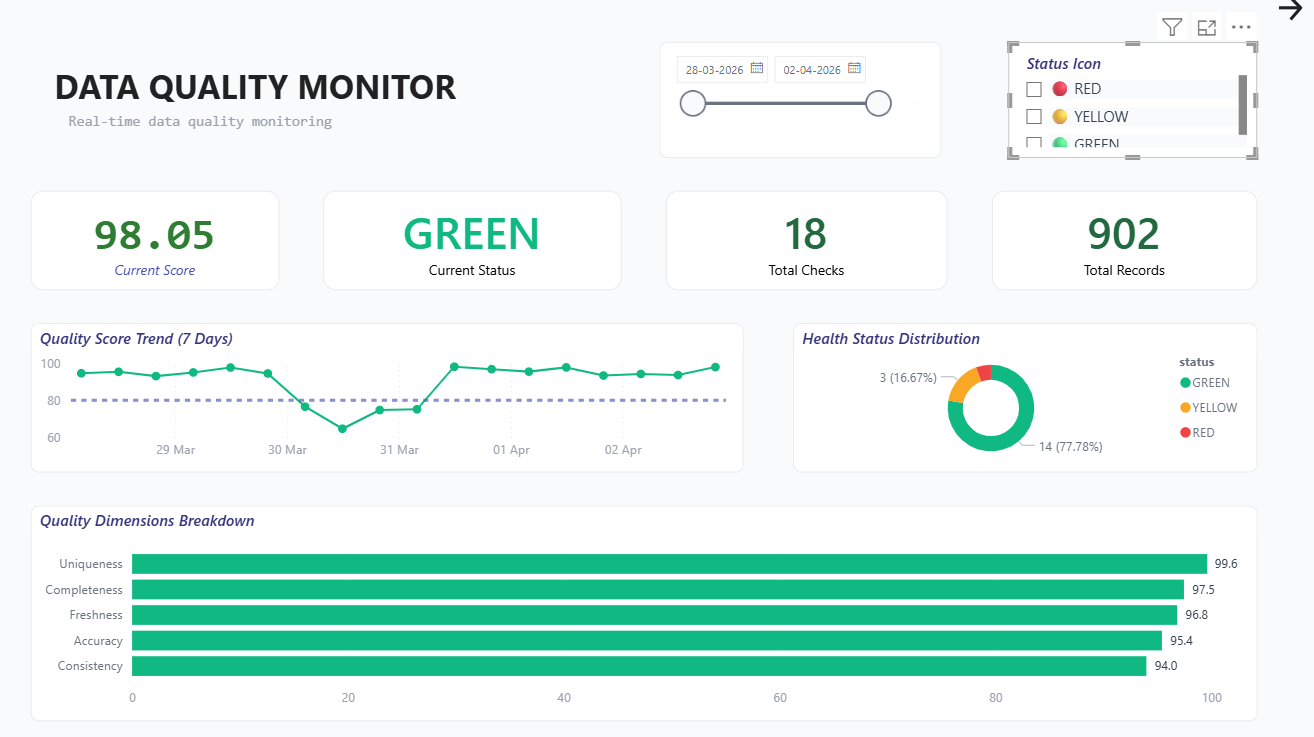

The page's visual inventory and layout, read from the dashboard file:
{"tool":"powerbi","page":{"name":"Dashboard","canvas":[1280,720],"ordinal":0},"visuals":[{"type":"card","fields":{"Values":["DimensionTable.Current Score"]},"box":[32,192,240,96],"z":0},{"type":"card","fields":{"Values":["DimensionTable.Current Status"]},"box":[314.7,192,288,96],"z":1000},{"type":"card","fields":{"Values":["CountNonNull(quality_metrics.id)"]},"box":[645.3,192,272,96],"z":2000},{"type":"lineChart","title":"Quality Score Trend (7 Days)","fields":{"Category":["quality_metrics.measured_at"],"Y":["Sum(quality_metrics.overall_score)"]},"box":[32,320,688,144],"z":3000},{"type":"donutChart","title":"Health Status Distribution","fields":{"Category":["quality_metrics.status"],"Y":["CountNonNull(quality_metrics.id)"]},"box":[768,320,448,144],"z":4000},{"type":"slicer","fields":{"Values":["quality_metrics.measured_at"]},"box":[640,48,272,112],"z":5000},{"type":"slicer","fields":{"Values":["quality_metrics.status"]},"box":[976,48,240,112],"z":6000},{"type":"clusteredBarChart","title":"Quality Dimensions Breakdown","fields":{"Category":["DimensionTable.Dimension"],"Y":["DimensionTable.Dimension Score"]},"box":[32,496,1184,208],"z":7000},{"type":"textbox","box":[32,48,416,80],"z":8000},{"type":"actionButton","box":[1232,0,48,32],"z":9000},{"type":"card","fields":{"Values":["Sum(quality_metrics.record_count)"]},"box":[960,192,256,96],"z":10000},{"type":"textbox","box":[64,112,352,48],"z":11000}]}

Visuals, with their boxes in screenshot pixels (x1, y1, x2, y2), scaled from the page's 1280x720 canvas onto the 1314x737 screenshot:
card - DimensionTable.Current Score: 33 197 279 295
card - DimensionTable.Current Status: 323 197 619 295
card - CountNonNull(quality_metrics.id): 662 197 942 295
"Quality Score Trend (7 Days)" lineChart: 33 328 739 475
"Health Status Distribution" donutChart: 788 328 1248 475
slicer - quality_metrics.measured_at: 657 49 936 164
slicer - quality_metrics.status: 1002 49 1248 164
"Quality Dimensions Breakdown" clusteredBarChart: 33 508 1248 721
textbox: 33 49 460 131
actionButton: 1265 0 1313 33
card - Sum(quality_metrics.record_count): 986 197 1248 295
textbox: 66 115 427 164
